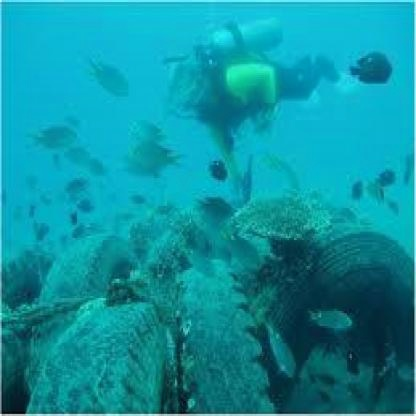tire: (241, 206, 416, 416), (55, 285, 196, 416), (45, 223, 161, 347)
